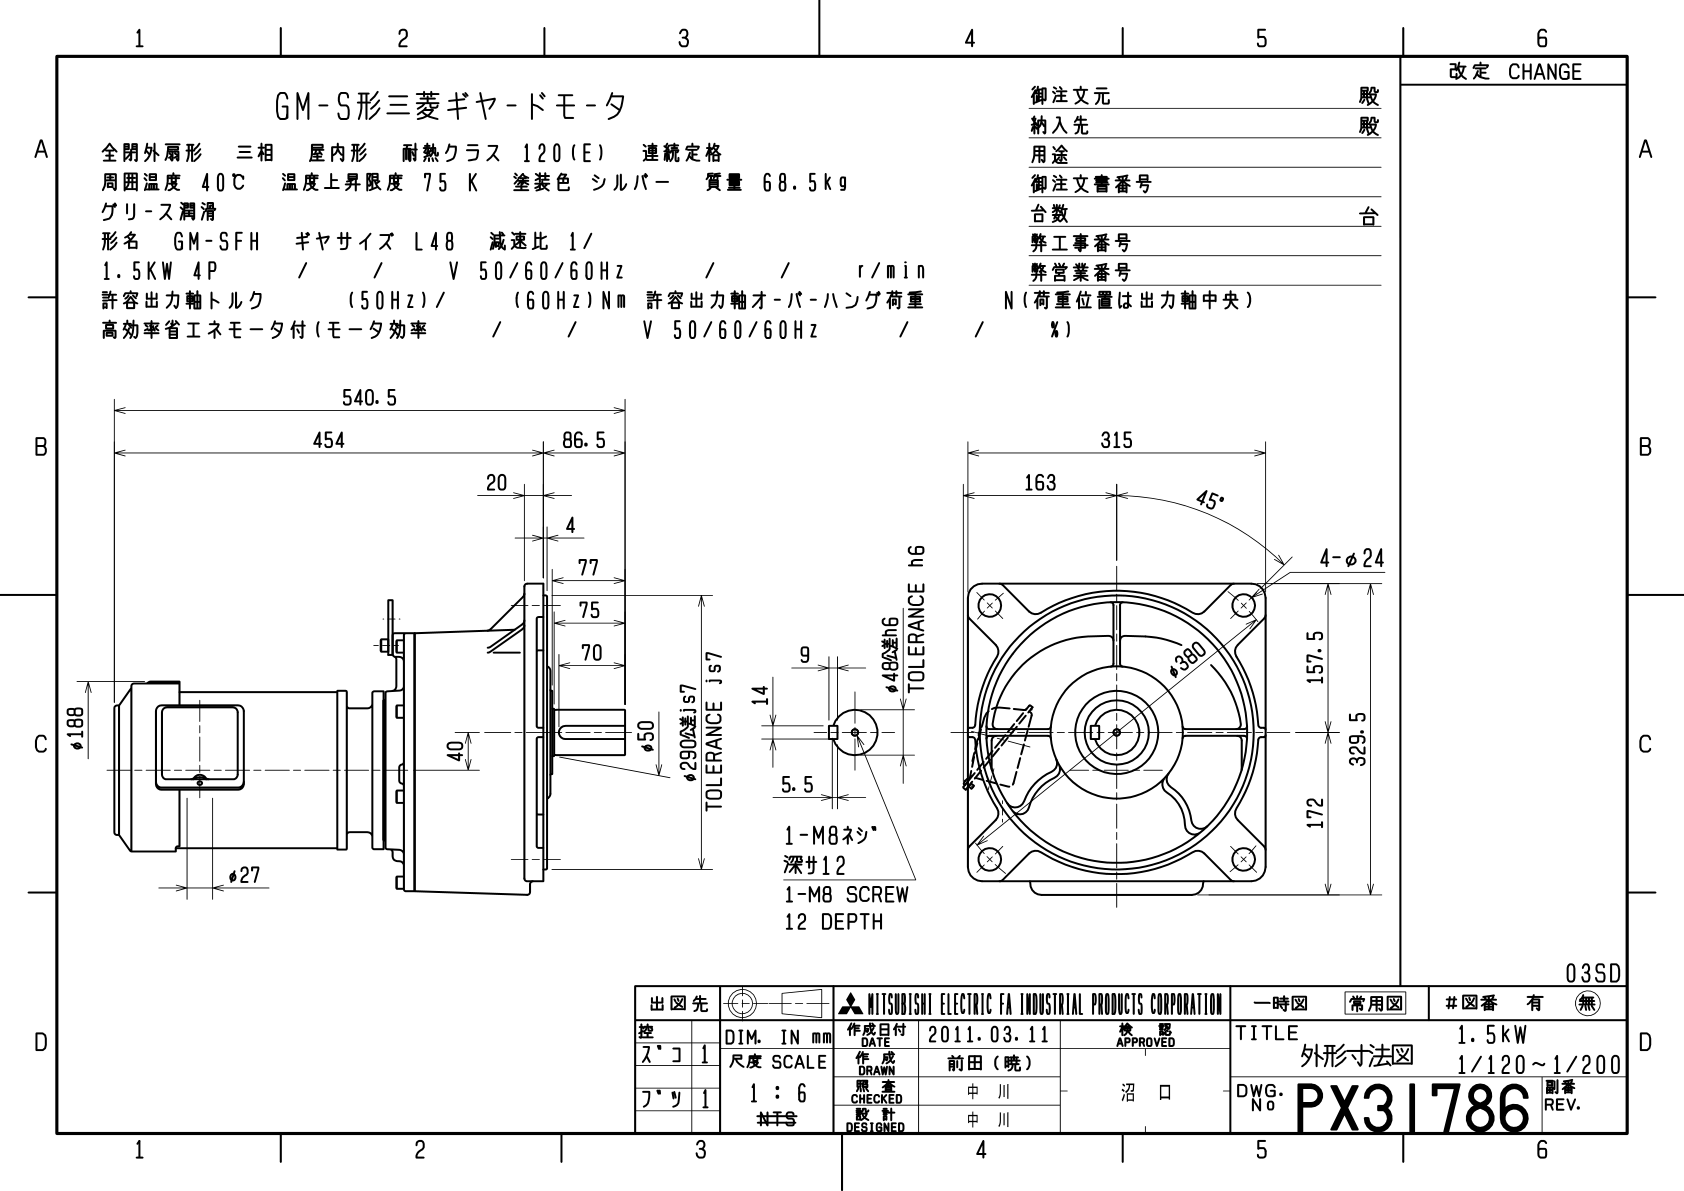GM_S_高効率屋内＿三相_フランジ: (6, 6, 1684, 1185)
